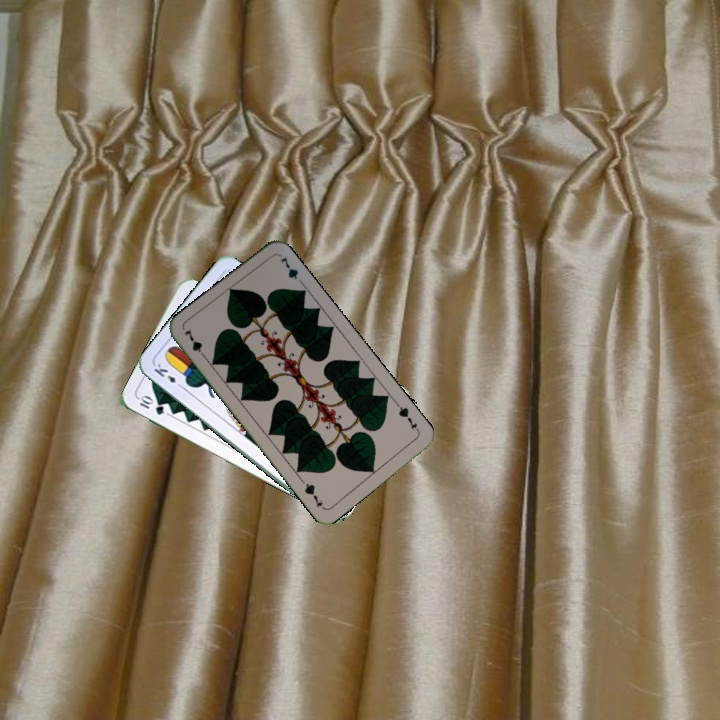EK: (150, 359, 186, 391)
G10: (135, 392, 167, 418)
G7: (180, 325, 209, 362), (393, 400, 422, 435)
